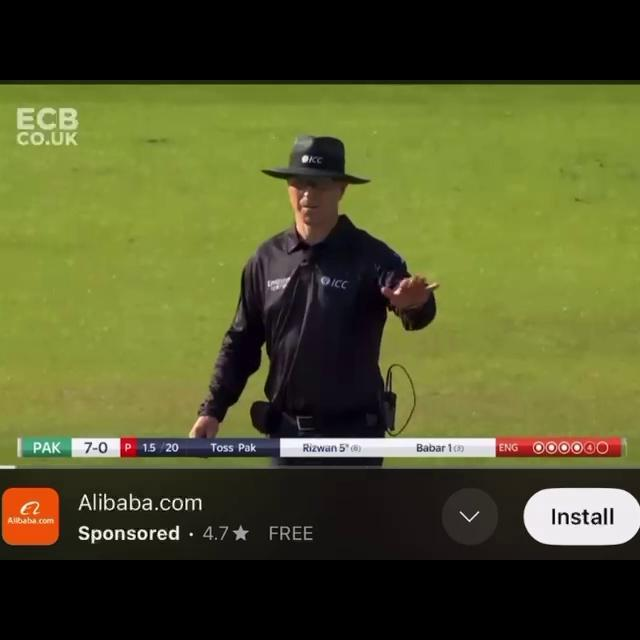umpire: (172, 122, 454, 437)
